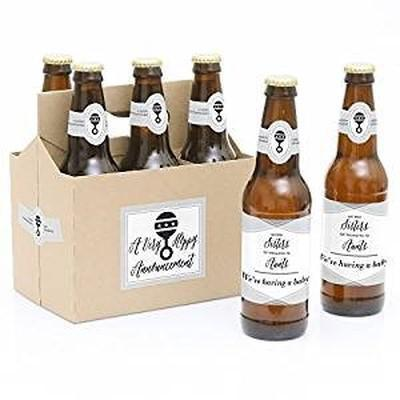beer: (241, 64, 387, 344)
